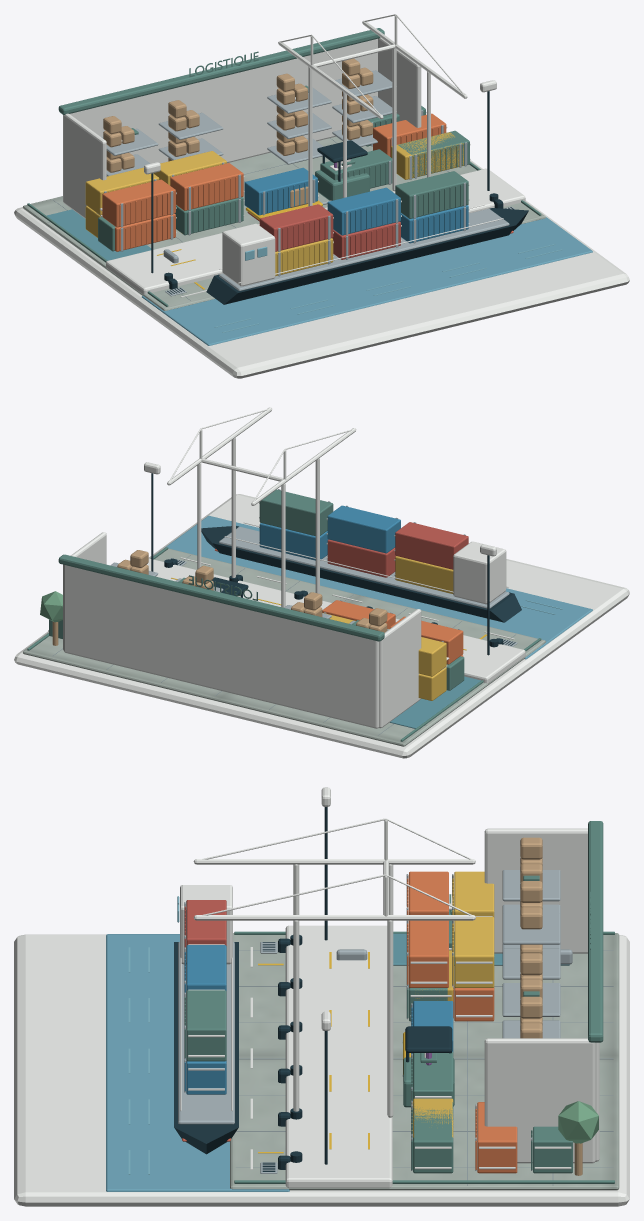
The model's file is suivi.glb.
3 renders of one model, top to bottom at view 1: azimuth 30°, elevation 25°; view 2: azimuth 150°, elevation 25°; view 3: azimuth 270°, elevation 25°, orthographic. The views are drawn at different scales.
Parts seen in each view (by area): view 1: StaticWorkshop_0, StaticWorkshop_6, StaticWorkshop_1, StaticWorkshop_12, StaticWorkshop_2, StaticWorkshop_3, Activity ground, Cargo ship hull, StaticWorkshop_13, Ship bridge, Ship deck, Ship container.003 (+12 smaller); view 2: StaticWorkshop_0, Activity ground, StaticWorkshop_6, StaticWorkshop_1, Cargo ship hull, Ship bridge, Ship container.003, Ship container.001, Ship deck, Ship container.005, StaticWorkshop_3, StaticWorkshop_12 (+7 smaller); view 3: StaticWorkshop_0, Activity ground, StaticWorkshop_6, StaticWorkshop_1, StaticWorkshop_12, StaticWorkshop_2, StaticWorkshop_13, StaticWorkshop_3, Ship deck, Ship container.005, Cargo ship hull, StaticWorkshop_7 (+11 smaller).
Part boxes in pixels (x1,y1,x2,y2): StaticWorkshop_0: (14, 14, 629, 378); StaticWorkshop_6: (142, 217, 592, 345); StaticWorkshop_1: (27, 28, 541, 306); StaticWorkshop_12: (102, 113, 446, 251); StaticWorkshop_2: (101, 70, 515, 296); StaticWorkshop_3: (103, 58, 373, 176); Activity ground: (23, 136, 545, 310); Cargo ship hull: (206, 208, 528, 304); StaticWorkshop_13: (85, 151, 226, 237); Ship bridge: (222, 223, 275, 286); Ship deck: (219, 209, 509, 290); Ship container.003: (327, 187, 400, 235); StaticWorkshop_0: (14, 407, 629, 758); Activity ground: (23, 548, 545, 746); StaticWorkshop_6: (165, 515, 592, 659); StaticWorkshop_1: (27, 547, 541, 741); Cargo ship hull: (201, 526, 521, 622); Ship bridge: (453, 541, 506, 604); Ship container.003: (327, 505, 400, 553); Ship container.001: (395, 522, 468, 569); Ship deck: (219, 526, 509, 608); Ship container.005: (259, 489, 333, 535); StaticWorkshop_3: (52, 550, 387, 645); StaticWorkshop_12: (322, 600, 463, 664); StaticWorkshop_0: (14, 787, 629, 1206); Activity ground: (230, 933, 619, 1190); StaticWorkshop_6: (106, 934, 289, 1191); StaticWorkshop_1: (234, 821, 614, 1183); StaticWorkshop_12: (407, 871, 517, 1173); StaticWorkshop_2: (260, 870, 572, 1173); StaticWorkshop_13: (452, 871, 494, 987); StaticWorkshop_3: (520, 837, 582, 1175); Ship deck: (178, 942, 234, 1124); Ship container.005: (186, 990, 226, 1061); Cargo ship hull: (174, 942, 238, 1154); StaticWorkshop_7: (262, 807, 327, 1171).
Bounding box in the file's own units: 7.3 × 3.91 × 7.2.
Materials: 24 (1 with a texture image).
